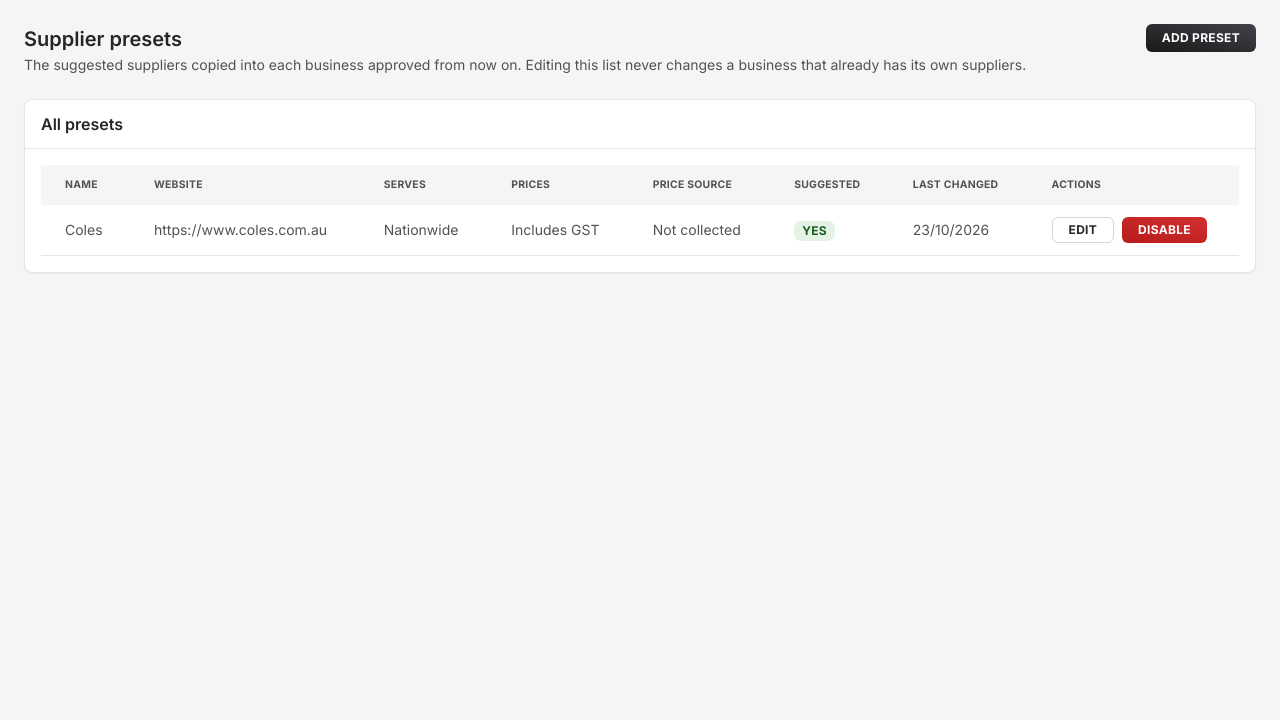
Test: SuperAdminSupplierPresetsComponent (issue #848) › opens the Add dialog with no preset to edit
This screenshot has width=1280, height=720.
Step 1. Click the button "Add preset" → (1201, 38), box [1146,24,1256,52]
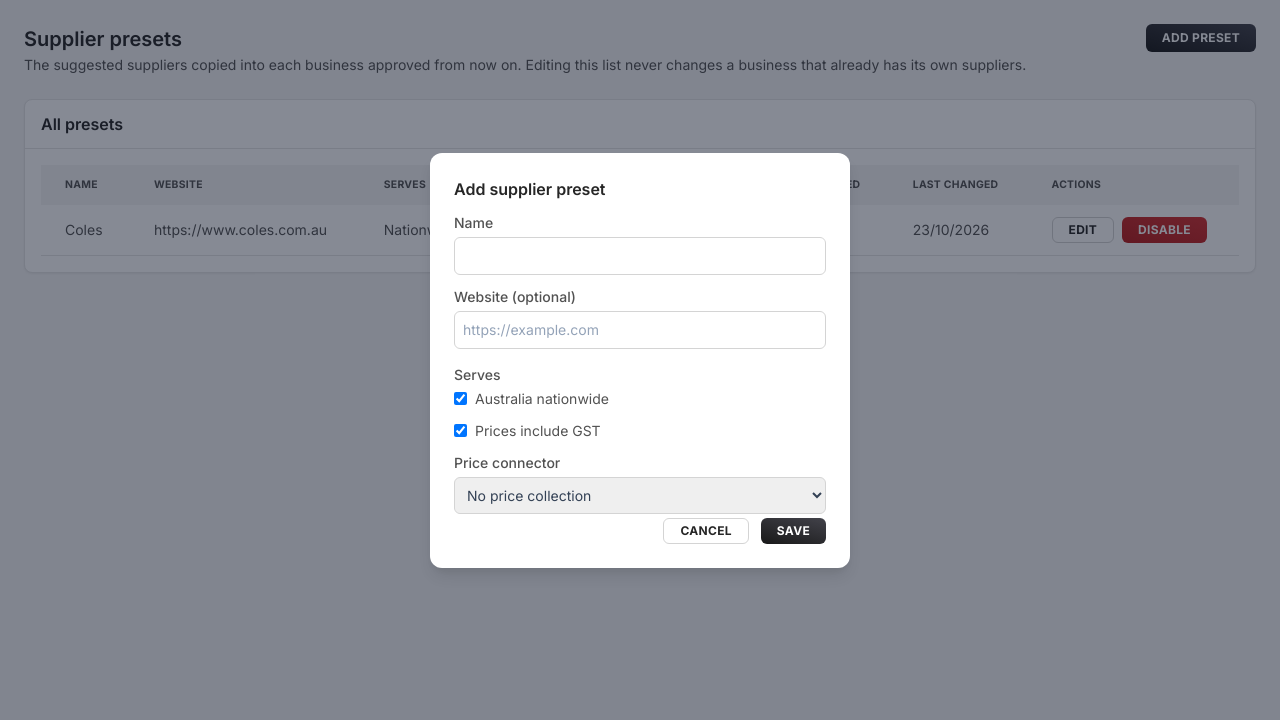
Expected: the text "Add supplier preset" is shown, [454,178,606,198]
